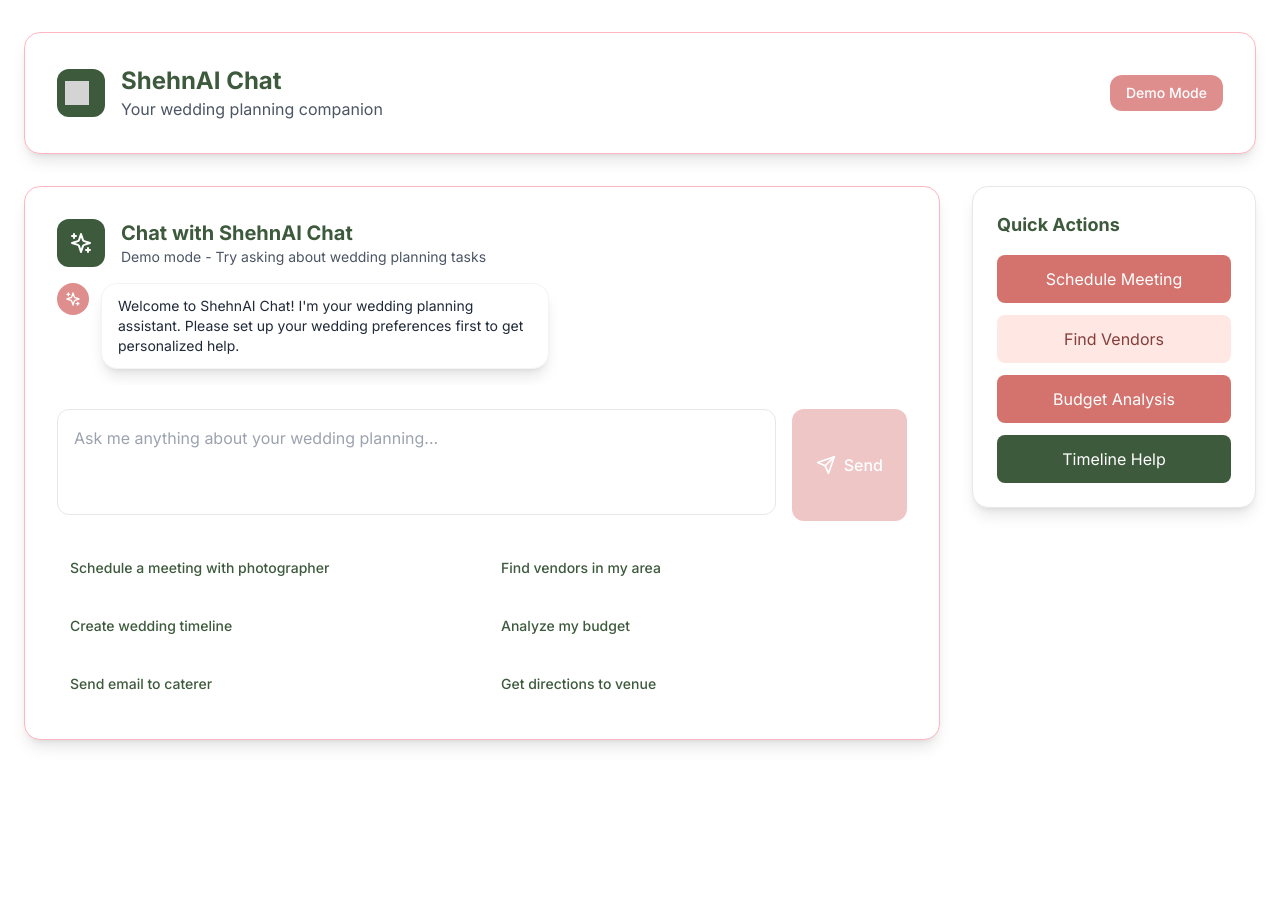
Test: AIChat Screen › Quick Prompts › each quick prompt button populates the correct text
Click the button "Schedule a meeting with photographer".
click(266, 568)  # box [57,545,476,591]
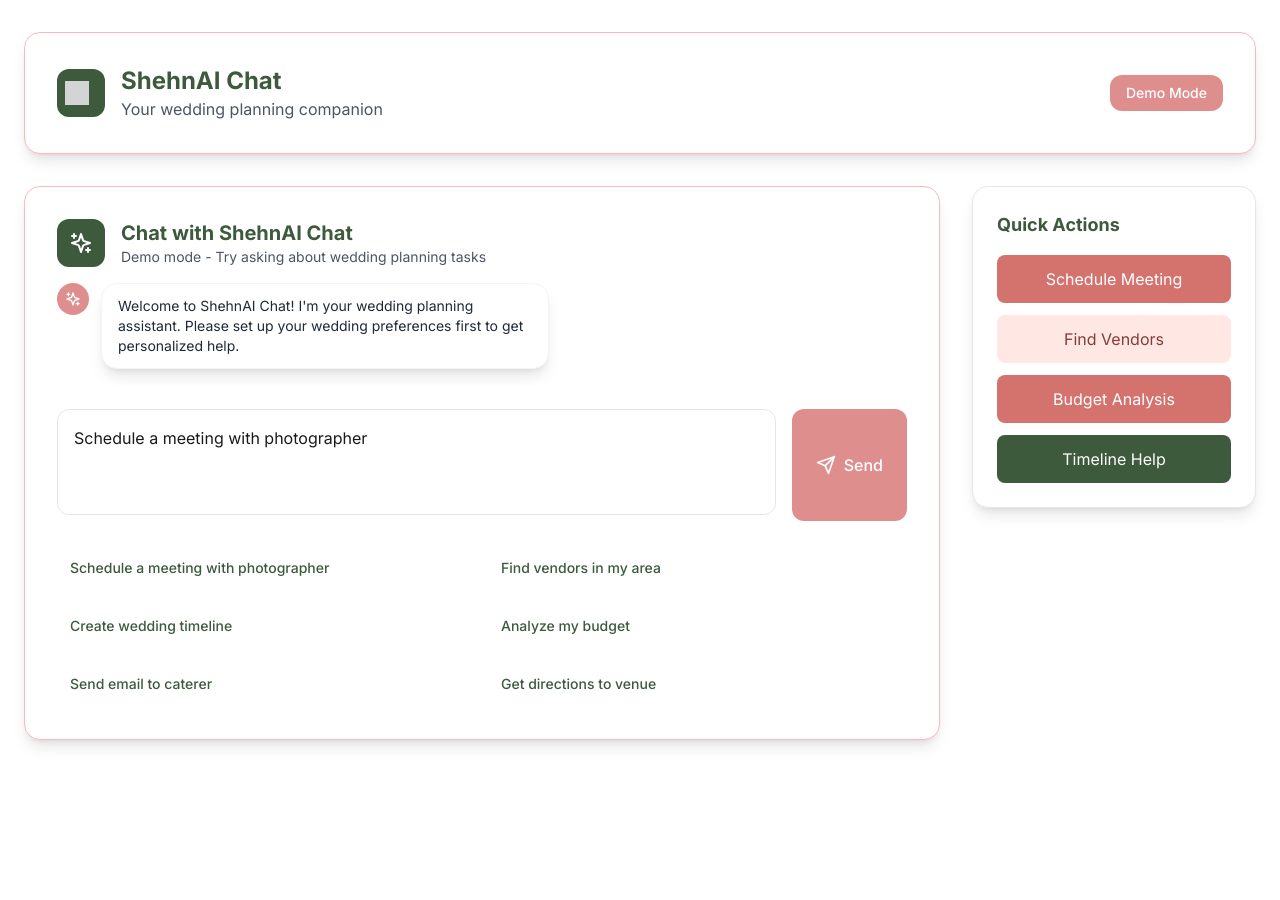
Now the text box with placeholder "Ask me anything about your wedding planning..." holds "Schedule a meeting with photographer", box [57,409,776,515]
Click the button "Find vendors in my area".
click(581, 568)  # box [488,545,907,591]
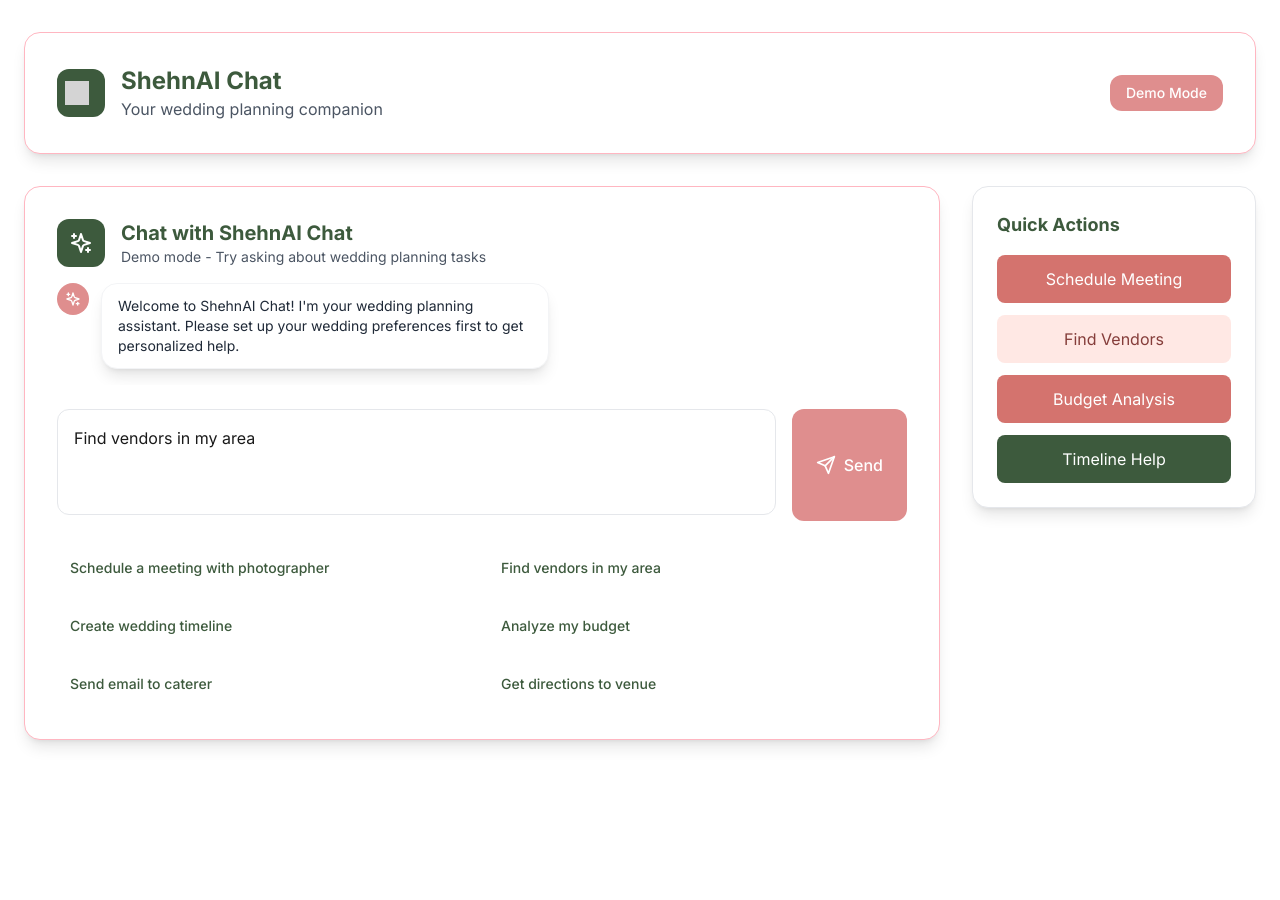
Now the text box with placeholder "Ask me anything about your wedding planning..." holds "Find vendors in my area", box [57,409,776,515]
Click the button "Create wedding timeline".
click(151, 626)  # box [57,603,476,649]
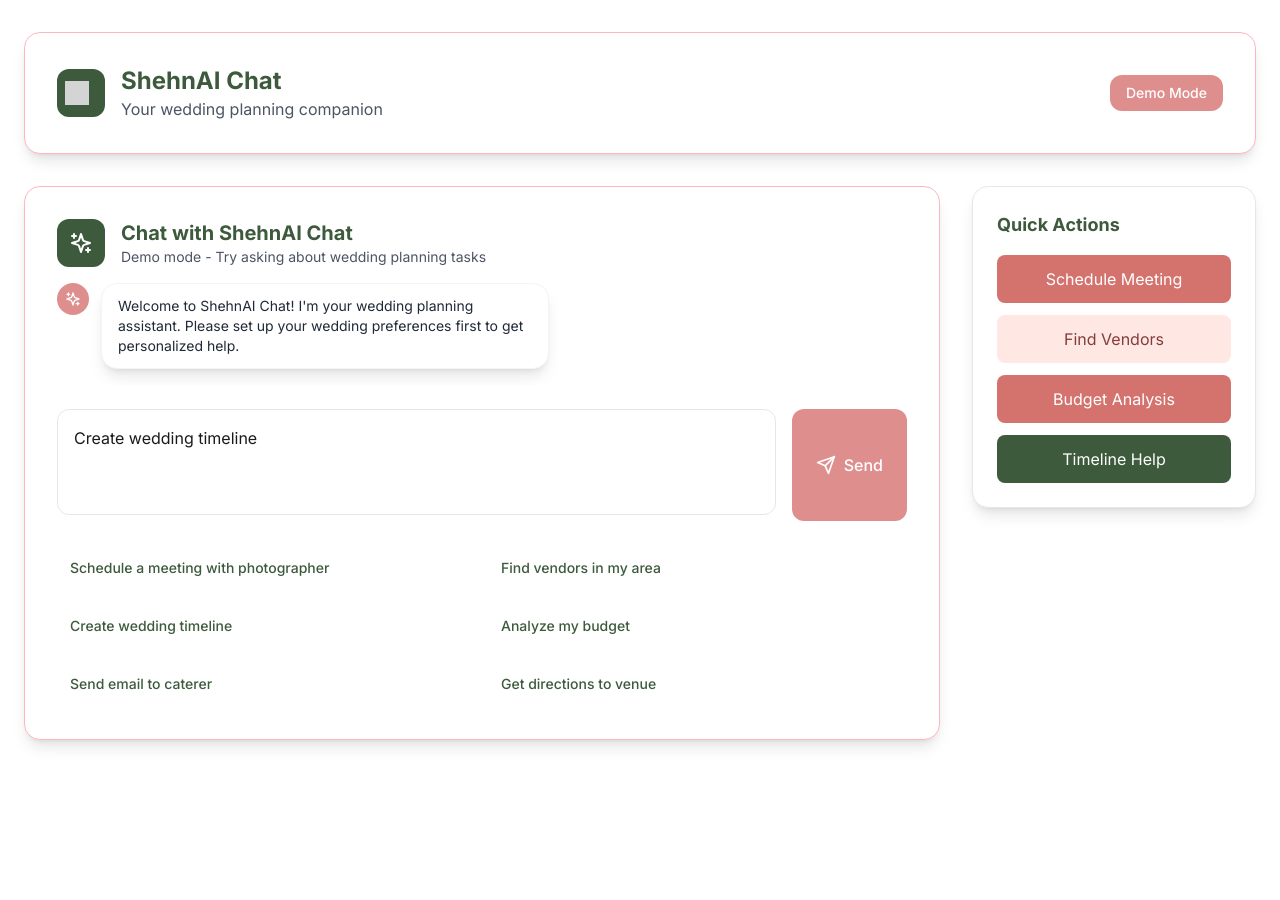
Now the text box with placeholder "Ask me anything about your wedding planning..." holds "Create wedding timeline", box [57,409,776,515]
Click the button "Analyze my budget".
click(565, 626)  # box [488,603,907,649]
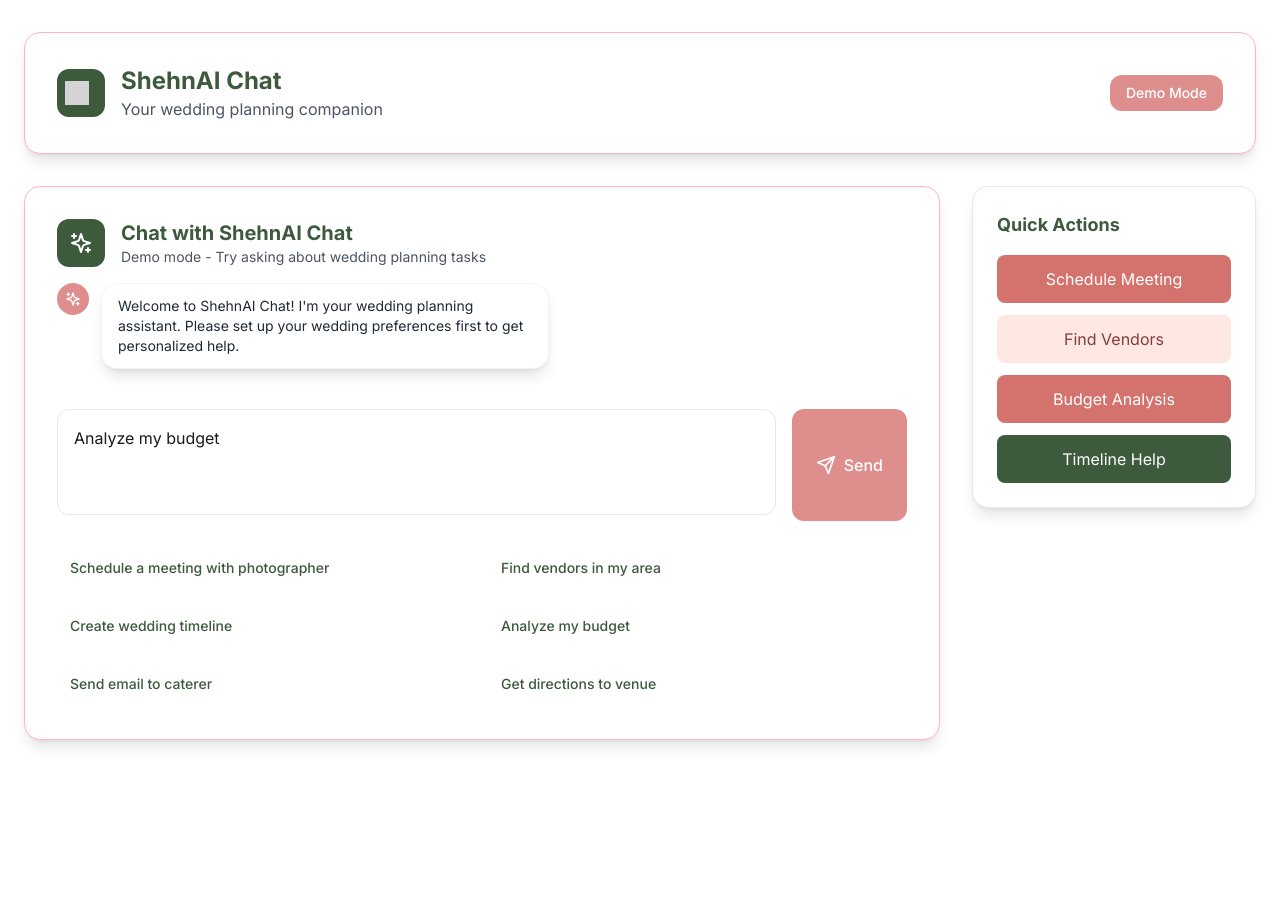
Now the text box with placeholder "Ask me anything about your wedding planning..." holds "Analyze my budget", box [57,409,776,515]
Click the button "Send email to caterer".
click(141, 684)  # box [57,661,476,707]
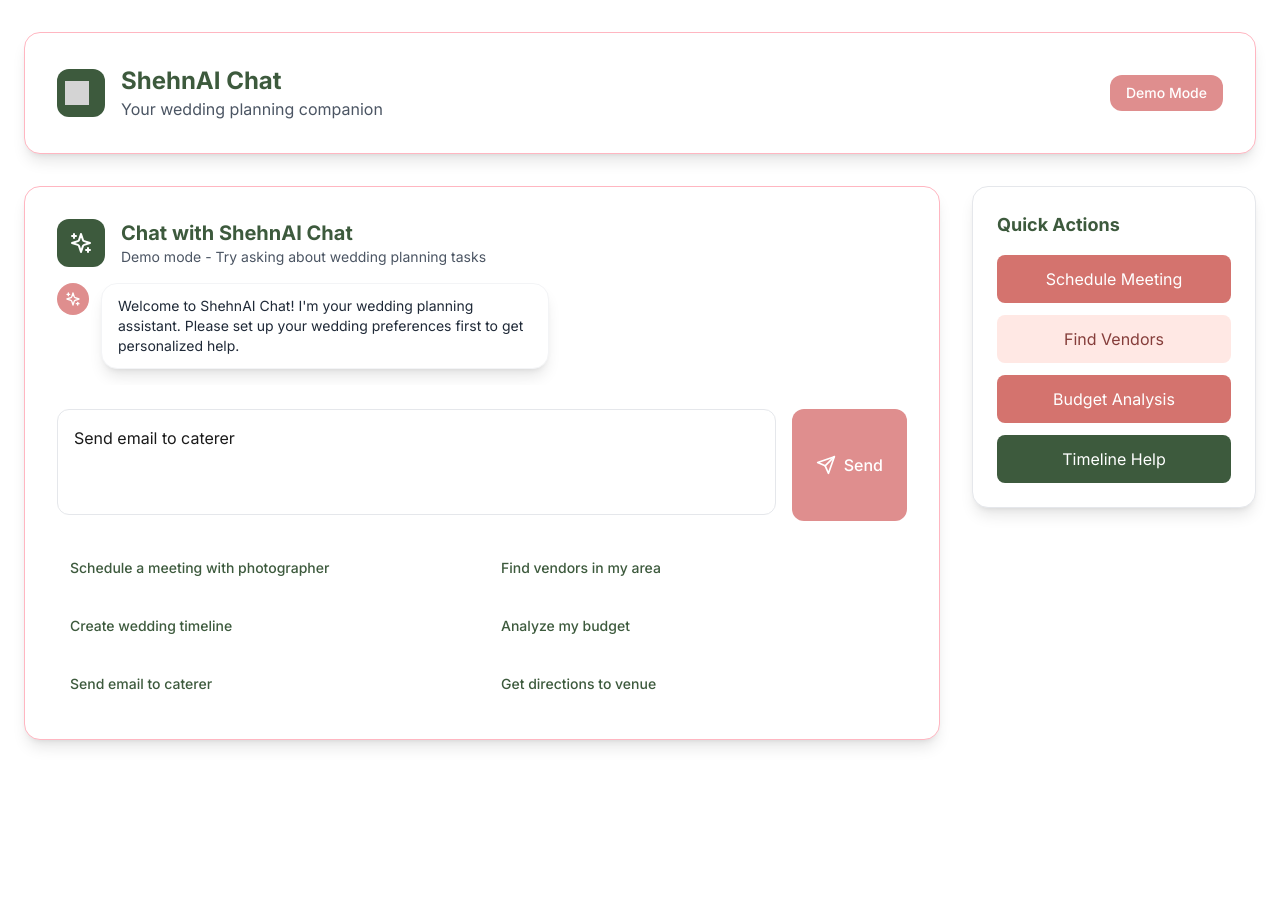
Now the text box with placeholder "Ask me anything about your wedding planning..." holds "Send email to caterer", box [57,409,776,515]
Click the button "Get directions to venue".
click(579, 684)  # box [488,661,907,707]
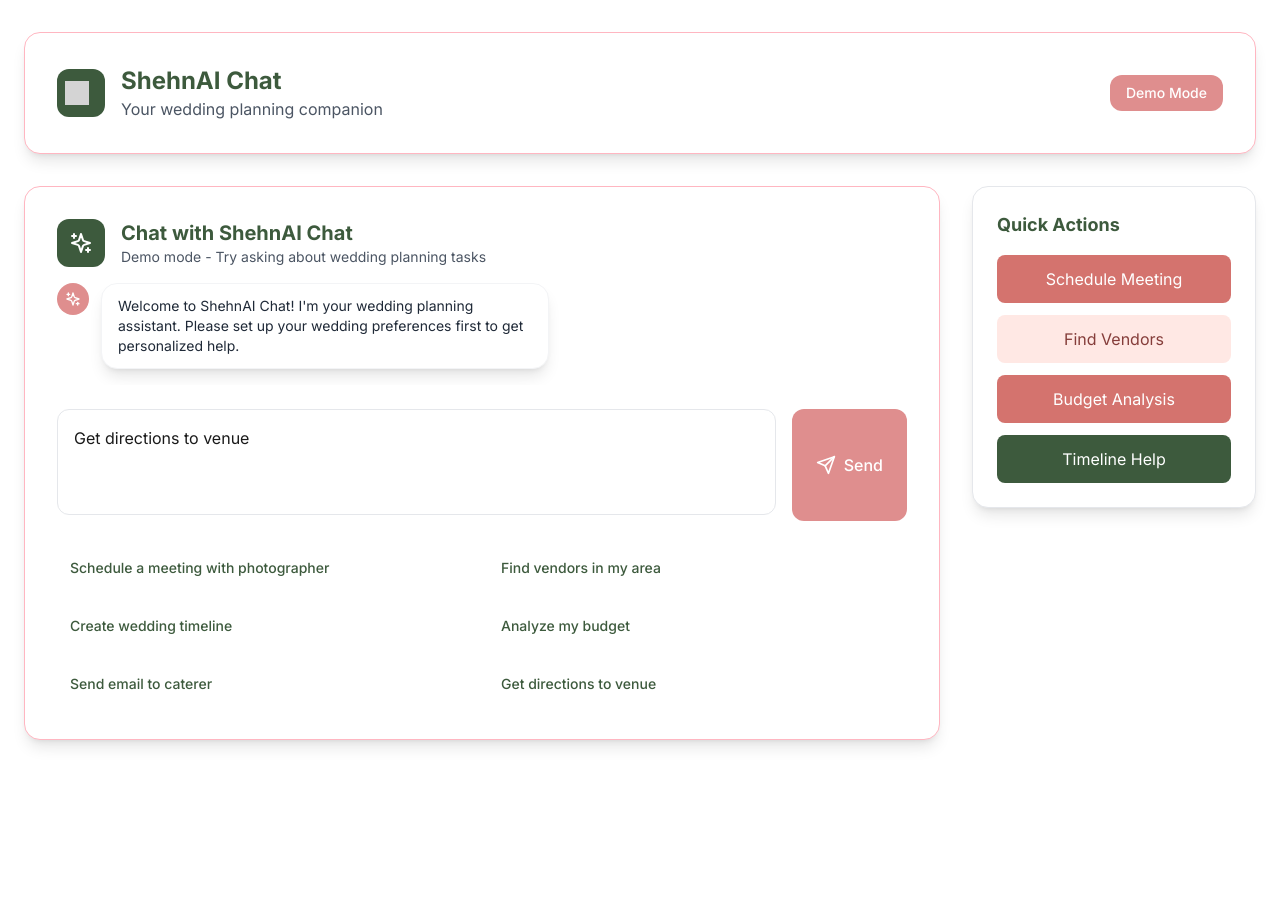
Now the text box with placeholder "Ask me anything about your wedding planning..." holds "Get directions to venue", box [57,409,776,515]
